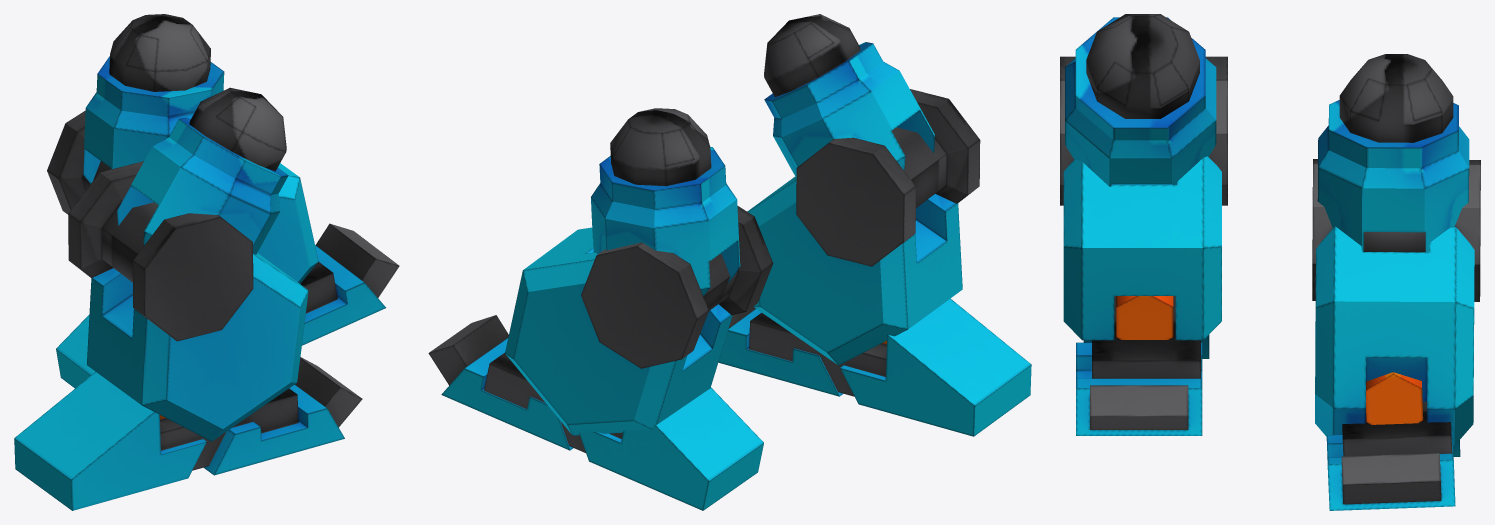
The model's file is Bottom_Idle9.obj.
3 views of the same model, side by side, from view 1: azimuth 30°, elevation 25°; view 2: azimuth 150°, elevation 25°; view 3: azimuth 270°, elevation 25° (orthographic). The views are drawn at different scales.
Visible parts, largest first — view 1: Object013, Object014, Object012, Object009, Object011, Object010; view 2: Object013, Object010, Object014, Object011, Object009, Object012; view 3: Object010, Object013, Object009, Object012, Object014, Object011.
Boxes of the visible parts, x1,y1,x2,y2 form: Object013: [68, 161, 308, 441]; Object014: [14, 357, 362, 510]; Object012: [117, 87, 288, 254]; Object009: [83, 14, 224, 183]; Object011: [56, 223, 399, 388]; Object010: [47, 110, 318, 283]; Object013: [747, 89, 980, 365]; Object010: [505, 205, 773, 435]; Object014: [718, 298, 1031, 436]; Object011: [428, 315, 763, 510]; Object009: [591, 108, 740, 295]; Object012: [764, 14, 934, 177]; Object010: [1312, 159, 1480, 445]; Object013: [1060, 56, 1227, 340]; Object009: [1317, 54, 1469, 252]; Object012: [1065, 14, 1216, 186]; Object014: [1076, 296, 1209, 435]; Object011: [1326, 372, 1460, 510].
Size of the model in its own units: 127 by 105 by 94.65.
